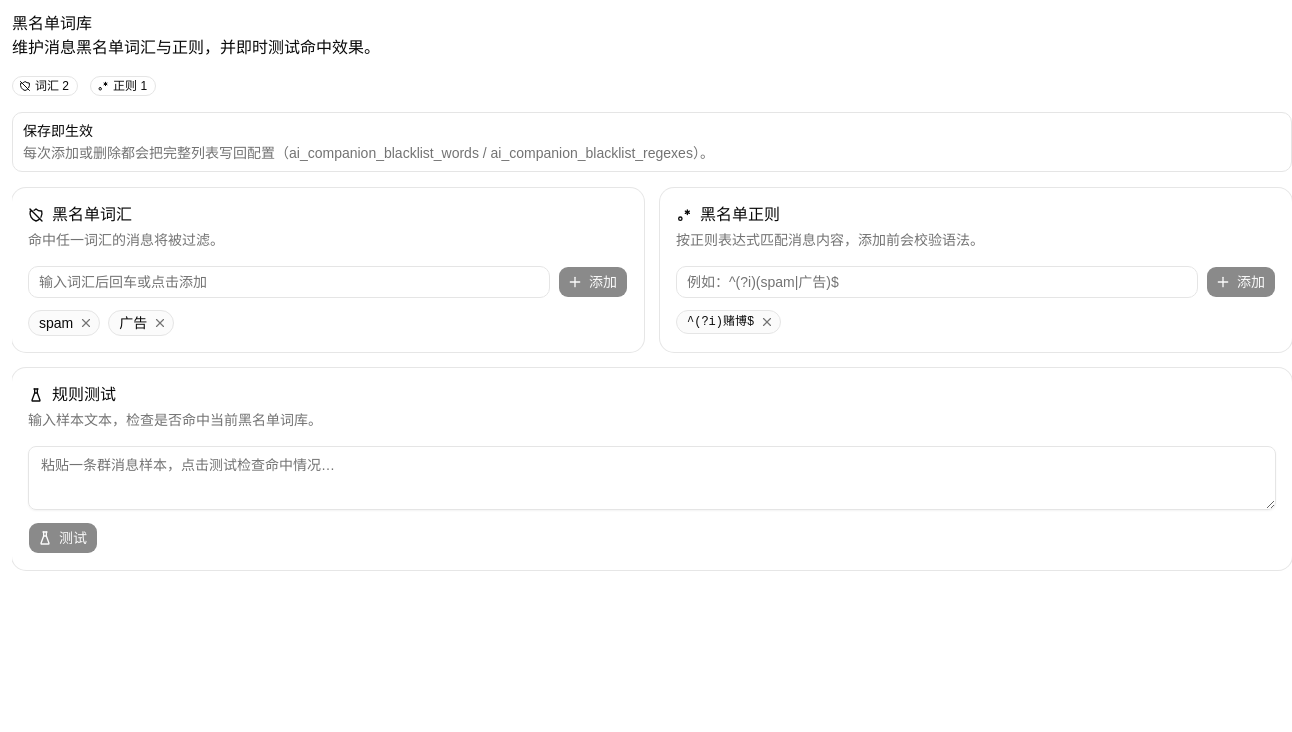
Test: blacklist workspace › runs a blacklist test and shows matched rules
Type "这是 spam 消息" into the text box named "测试文本". click: (652, 478)
box: x1=28 y1=446 x2=1276 y2=510
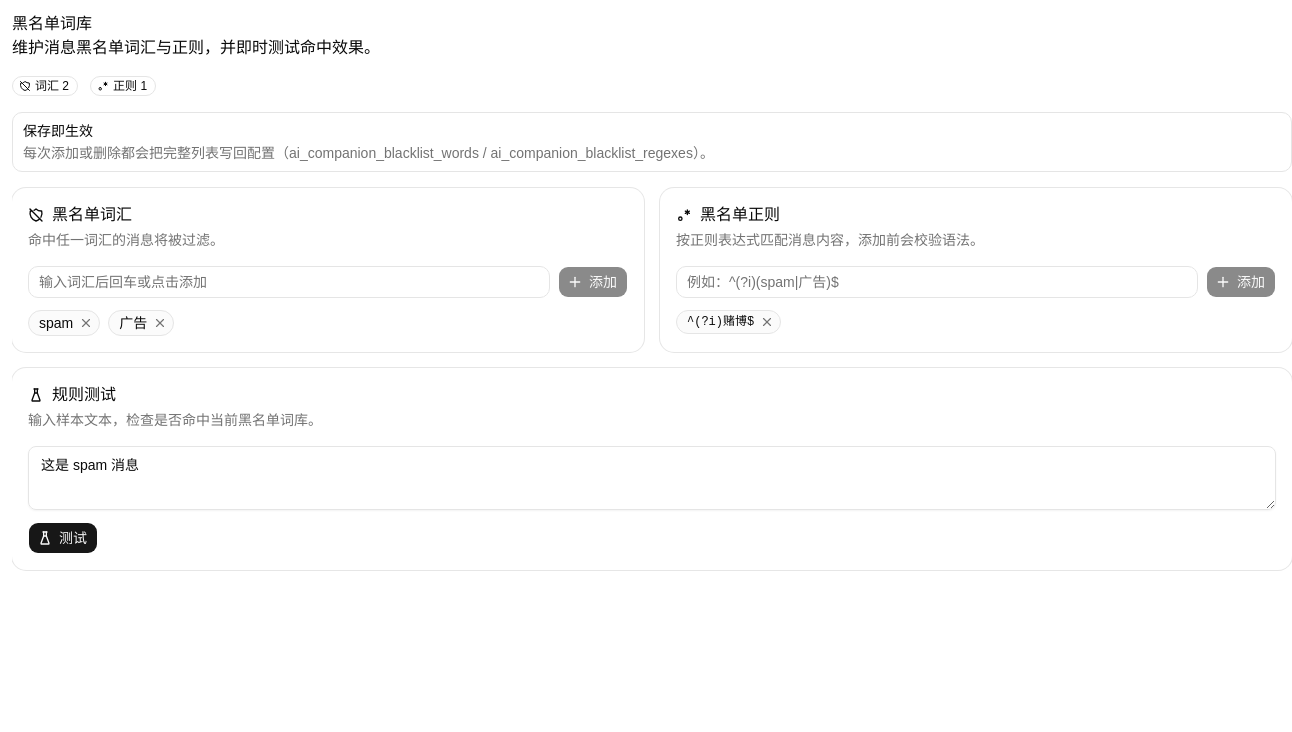
Click the button "测试". click: (63, 538)
box: x1=28 y1=522 x2=98 y2=554
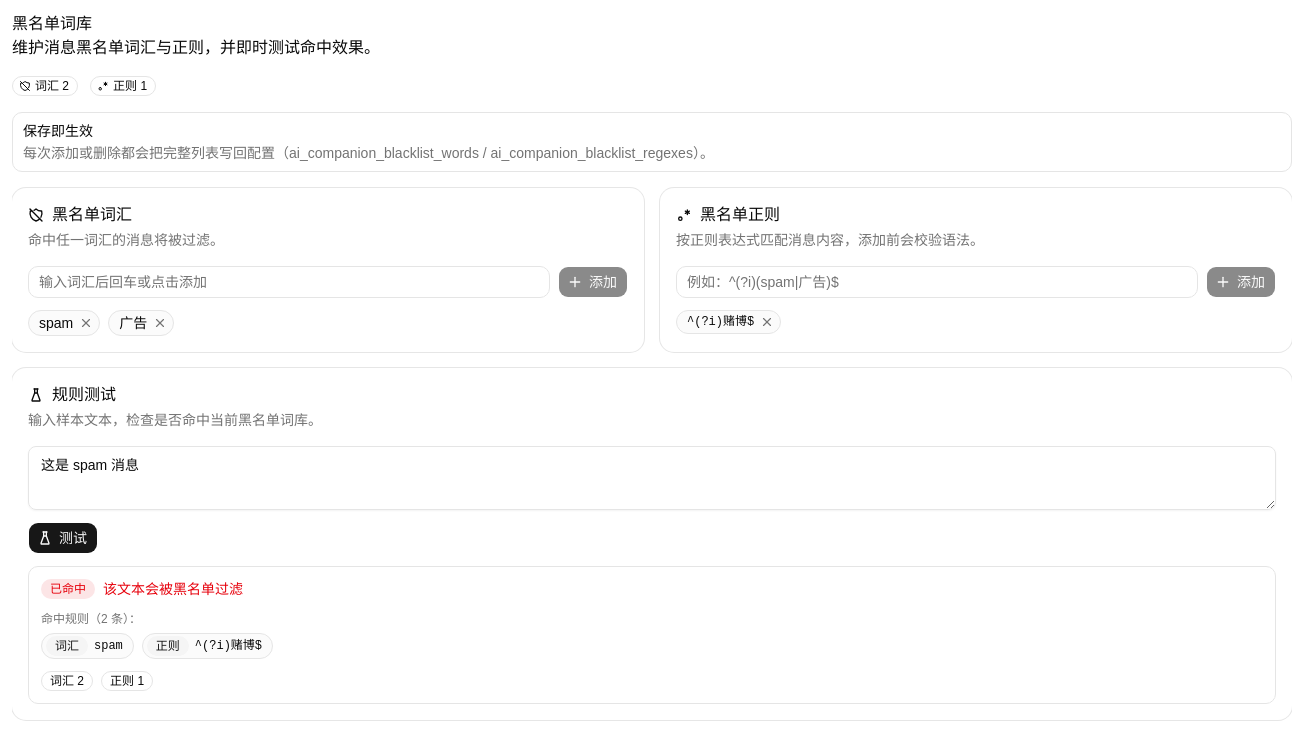
Expected: the icon "已命中" is shown, x1=41 y1=579 x2=95 y2=599
Expected: the text "该文本会被黑名单过滤" is shown, x1=103 y1=579 x2=243 y2=599
Expected: the icon "词汇" is shown, x1=46 y1=636 x2=88 y2=656
